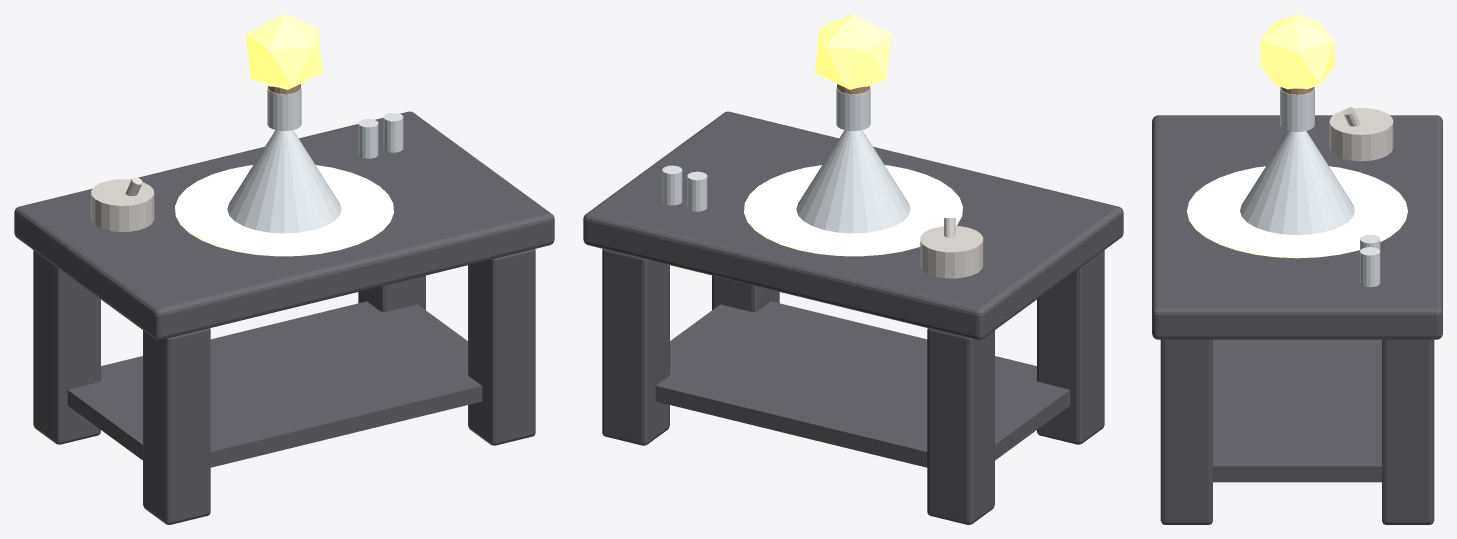
File: alchemy_table.glb
The picture shows the model from 3 angles, left to right: view 1: azimuth 30°, elevation 25°; view 2: azimuth 150°, elevation 25°; view 3: azimuth 270°, elevation 25°; orthographic projection.
Visible parts, largest first — view 1: StoneSlab, LowerStoneShelf, StoneLeg_-0.65_-0.38, StoneLeg_0.65_-0.38, StoneLeg_-0.65_0.38, TransmutationCircle, AlchemyFlaskGlass, StarStone, Mortar, StoneLeg_0.65_0.38, FlaskNeck, HerbVial_0 (+1 smaller); view 2: StoneSlab, LowerStoneShelf, StoneLeg_-0.65_0.38, StoneLeg_0.65_0.38, StoneLeg_-0.65_-0.38, TransmutationCircle, AlchemyFlaskGlass, StarStone, Mortar, StoneLeg_0.65_-0.38, FlaskNeck, HerbVial_0 (+1 smaller); view 3: StoneSlab, LowerStoneShelf, TransmutationCircle, StoneLeg_0.65_0.38, StoneLeg_0.65_-0.38, AlchemyFlaskGlass, StarStone, Mortar, FlaskNeck, HerbVial_1.
Boxes of the visible parts, x1,y1,x2,y2 form: StoneSlab: (14,111,554,340); LowerStoneShelf: (67,301,482,467); StoneLeg_-0.65_-0.38: (143,328,210,524); StoneLeg_0.65_-0.38: (468,249,535,445); StoneLeg_-0.65_0.38: (33,250,100,444); TransmutationCircle: (175,165,393,256); AlchemyFlaskGlass: (227,130,341,233); StarStone: (246,14,322,89); Mortar: (91,179,154,231); StoneLeg_0.65_0.38: (358,275,425,312); FlaskNeck: (267,85,301,131); HerbVial_0: (358,119,378,158); StoneSlab: (583,111,1123,340); LowerStoneShelf: (655,301,1070,467); StoneLeg_-0.65_0.38: (927,328,994,524); StoneLeg_0.65_0.38: (602,249,669,445); StoneLeg_-0.65_-0.38: (1037,250,1104,444); TransmutationCircle: (744,165,962,256); AlchemyFlaskGlass: (796,130,910,233); StarStone: (815,14,891,89); Mortar: (920,226,983,278); StoneLeg_0.65_-0.38: (712,275,779,312); FlaskNeck: (836,85,870,131); HerbVial_0: (687,171,707,211); StoneSlab: (1152,115,1442,339); LowerStoneShelf: (1213,339,1381,482); TransmutationCircle: (1187,166,1407,258); StoneLeg_0.65_0.38: (1382,339,1434,524); StoneLeg_0.65_-0.38: (1160,339,1212,524); AlchemyFlaskGlass: (1240,131,1354,234); StarStone: (1260,14,1334,89); Mortar: (1329,108,1393,161); FlaskNeck: (1280,87,1314,131); HerbVial_1: (1360,247,1380,287).
Size of the model in its own units: 1.6 by 1.6 by 1.
